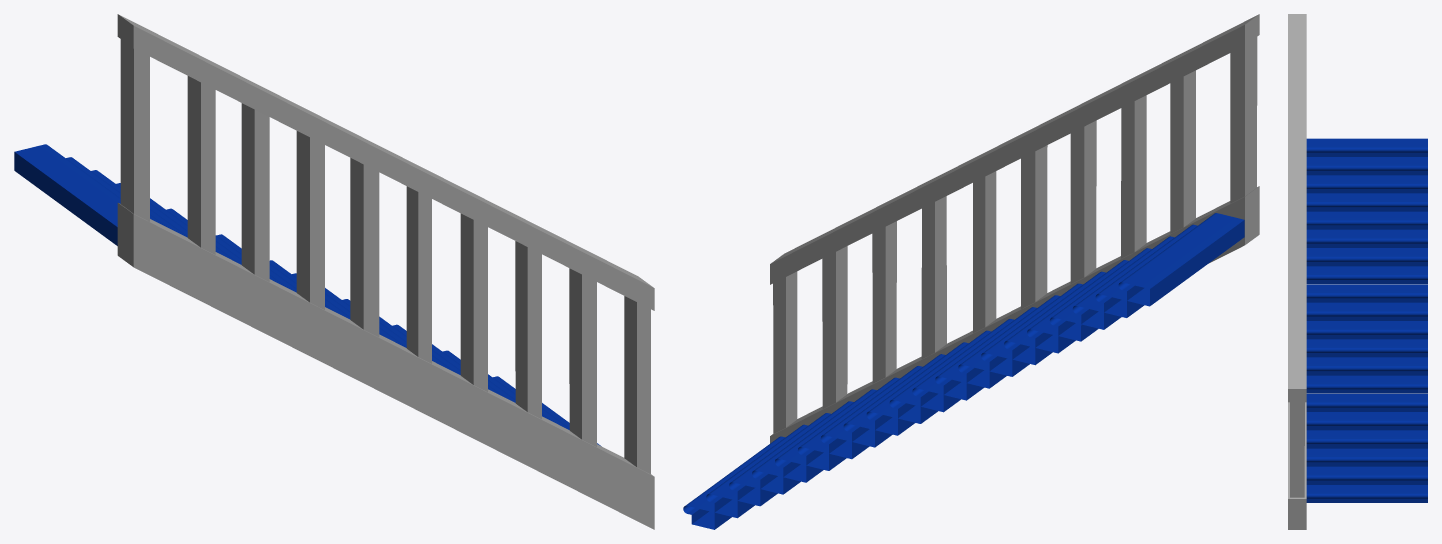
Rendered from StairsTest1.fbx.
3 views of the same model, side by side, from view 1: azimuth 30°, elevation 25°; view 2: azimuth 150°, elevation 25°; view 3: azimuth 270°, elevation 25° (orthographic). The views are drawn at different scales.
Parts seen in each view (by area): view 1: Bannister2, Stairs10; view 2: Bannister2, Stairs10, Stairs5, Stairs1, Stairs2, Stairs4, Stairs6, Stairs7, Stairs9, Stairs3, Stairs8; view 3: Bannister2, Stairs10, Stairs2, Stairs3, Stairs9, Stairs1, Stairs4, Stairs5, Stairs6, Stairs7, Stairs8.
Boxes of the visible parts, <box> form: Bannister2: <box>117,14,654,529</box>; Stairs10: <box>14,144,167,245</box>; Bannister2: <box>770,14,1259,443</box>; Stairs10: <box>1095,213,1244,317</box>; Stairs5: <box>958,283,1082,388</box>; Stairs1: <box>683,424,807,529</box>; Stairs2: <box>729,401,853,506</box>; Stairs4: <box>775,377,899,482</box>; Stairs6: <box>1004,260,1128,365</box>; Stairs7: <box>912,307,1036,412</box>; Stairs9: <box>1049,236,1174,341</box>; Stairs3: <box>820,354,945,459</box>; Stairs8: <box>866,330,991,435</box>; Bannister2: <box>1288,14,1306,529</box>; Stairs10: <box>1306,138,1427,175</box>; Stairs2: <box>1306,430,1427,466</box>; Stairs3: <box>1306,357,1427,393</box>; Stairs9: <box>1306,175,1427,211</box>; Stairs1: <box>1306,466,1427,502</box>; Stairs4: <box>1306,394,1427,430</box>; Stairs5: <box>1306,248,1427,284</box>; Stairs6: <box>1306,211,1427,247</box>; Stairs7: <box>1306,284,1427,320</box>; Stairs8: <box>1306,321,1427,357</box>.
Bounding box in the file's own units: 28.65 × 33.19 × 11.42.
